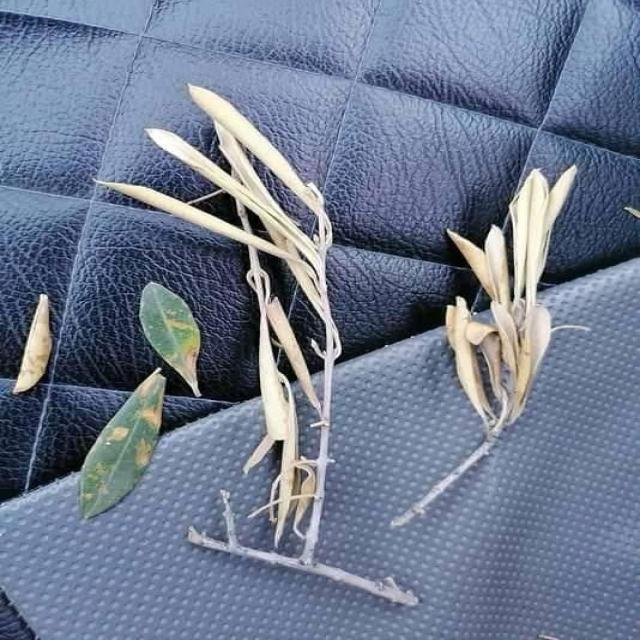OlivePeacockSpot: (79, 368, 165, 518), (139, 282, 204, 398)
